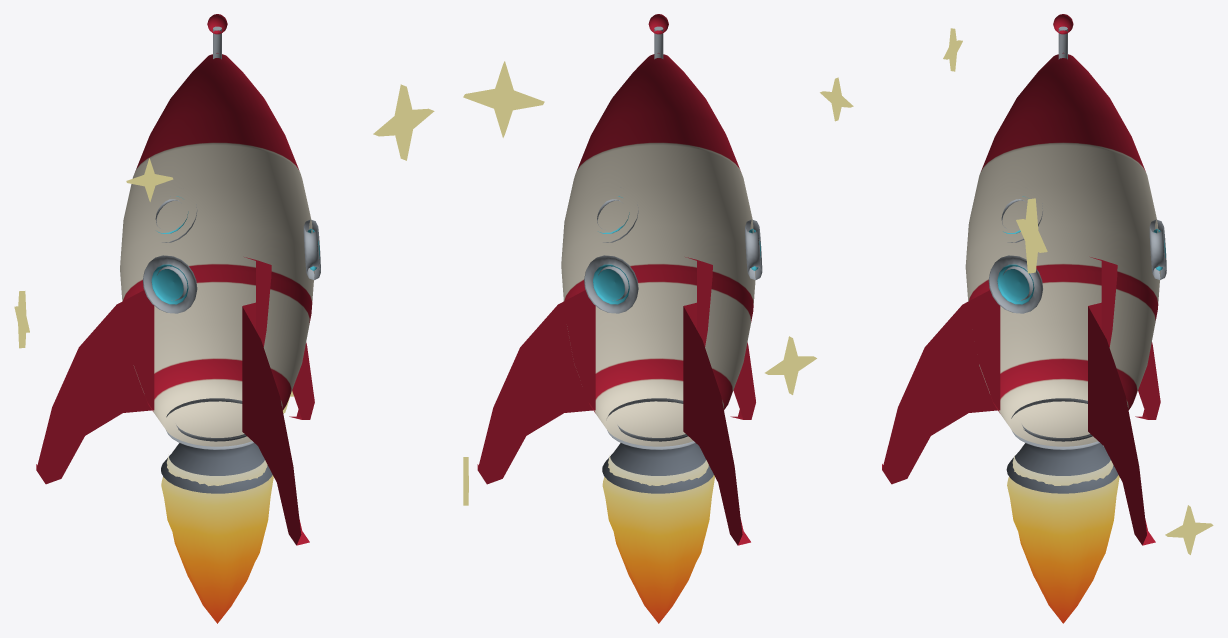
File: rocket.glb
3 views of the same model, side by side, from view 1: azimuth 30°, elevation 25°; view 2: azimuth 150°, elevation 25°; view 3: azimuth 270°, elevation 25° (orthographic).
Visible parts, largest first — view 1: rocket; view 2: rocket; view 3: rocket.
Boxes of the visible parts, x1,y1,x2,y2 form: rocket: [14, 14, 434, 623]; rocket: [463, 14, 853, 623]; rocket: [882, 14, 1213, 623].
Size of the model in its own units: 2.8 by 4.26 by 2.11.
